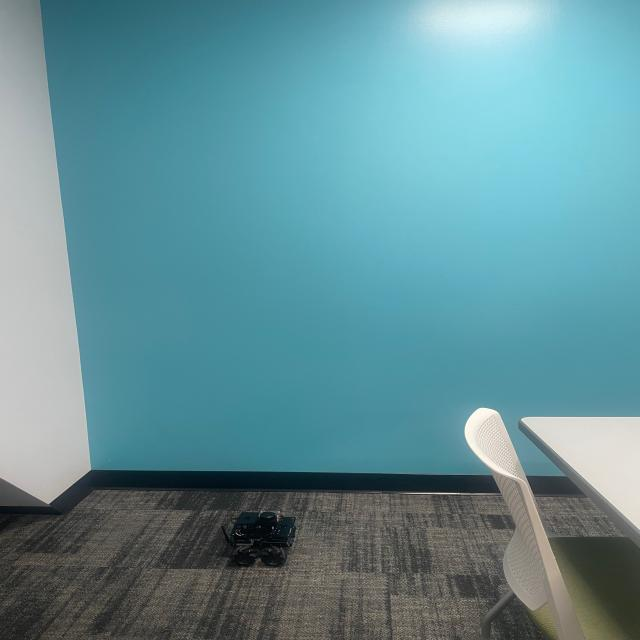ArduinoCar: (212, 506, 304, 571)
